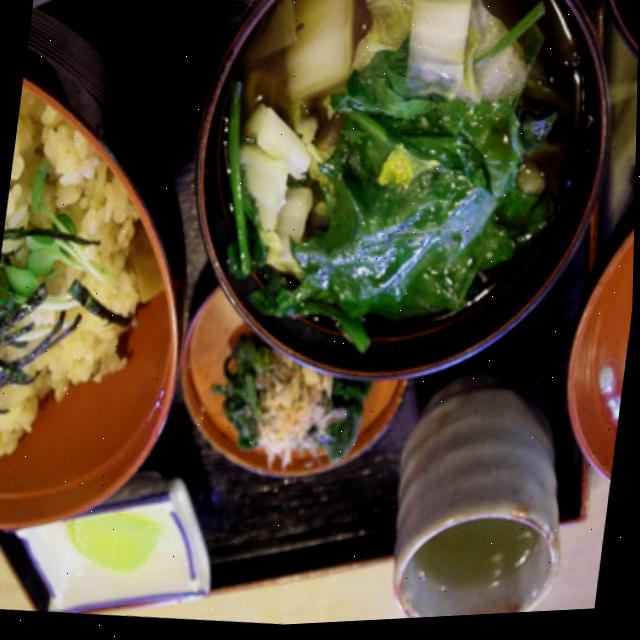蔬菜料理: (107, 0, 609, 404)
